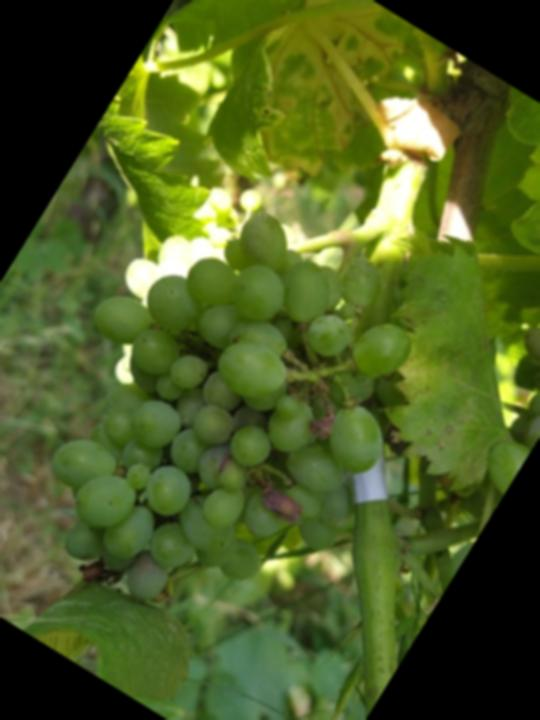grape: (0, 146, 473, 680)
